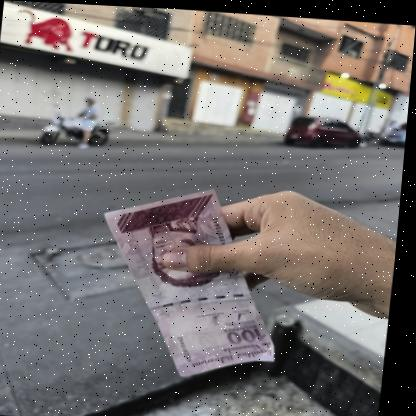vef_front: (93, 177, 295, 381)
